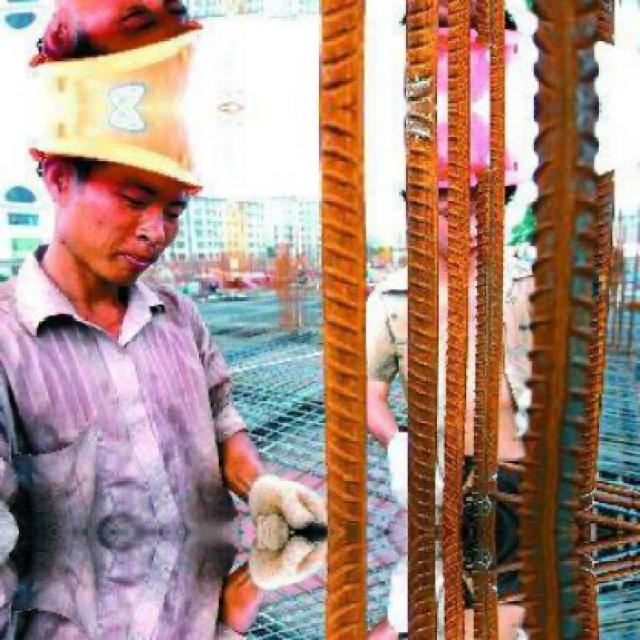helmet: (26, 108, 202, 280), (25, 0, 202, 106), (403, 109, 515, 262), (403, 0, 517, 105)
